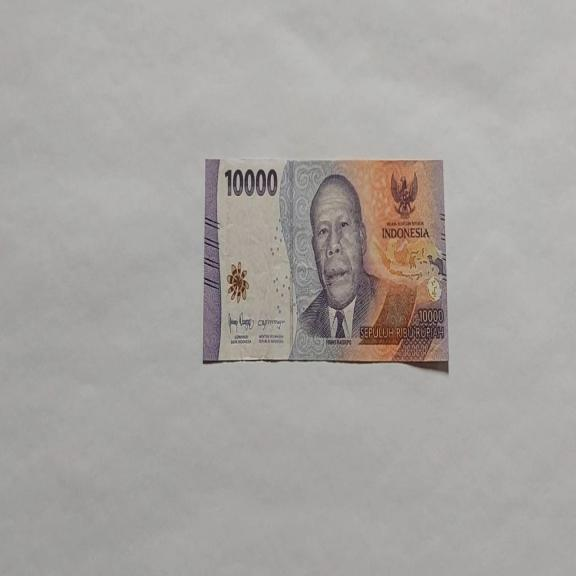Kertas: (202, 155, 449, 367), (223, 166, 278, 198)
